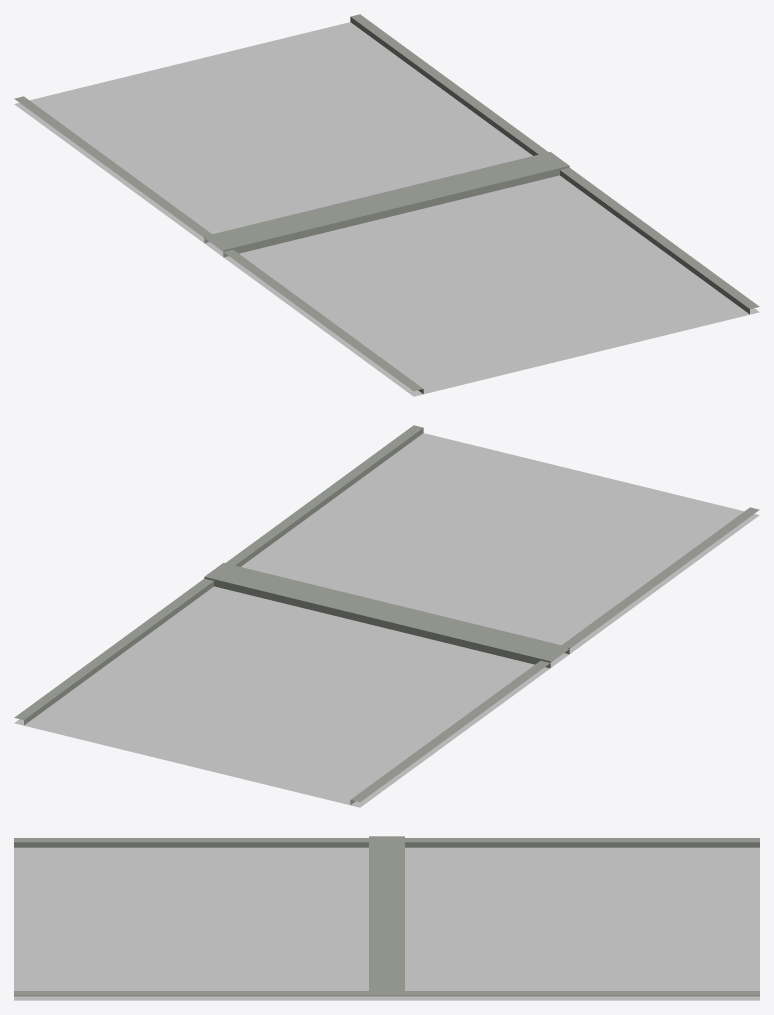
File: SM_Ceiling_02.fbx
The picture shows the model from 3 angles, top to bottom: view 1: azimuth 30°, elevation 25°; view 2: azimuth 150°, elevation 25°; view 3: azimuth 270°, elevation 25°; orthographic projection. The views are drawn at different scales.
Visible parts, largest first — view 1: SM_Ceiling_02; view 2: SM_Ceiling_02; view 3: SM_Ceiling_02.
Boxes of the visible parts, left/top/right/bottom form: SM_Ceiling_02: left=14, top=14, right=759, bottom=396; SM_Ceiling_02: left=14, top=425, right=759, bottom=807; SM_Ceiling_02: left=14, top=836, right=759, bottom=1000.
Size of the model in its own units: 100 by 1.98 by 200.
